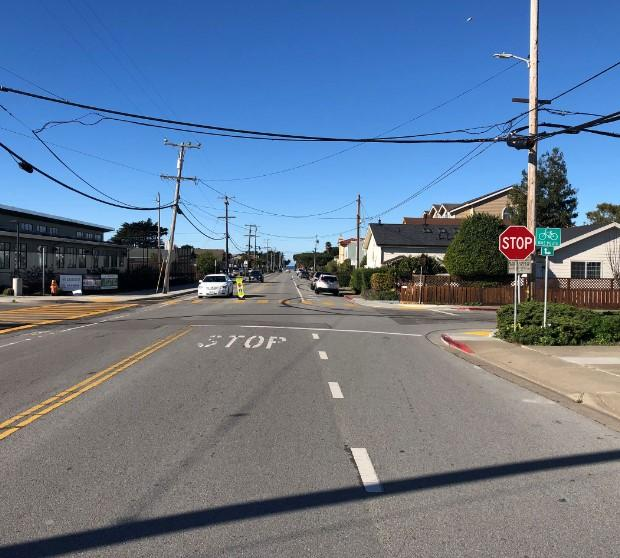Pole: (544, 257, 548, 330), (514, 262, 518, 333)
Sign: (499, 226, 535, 261)
